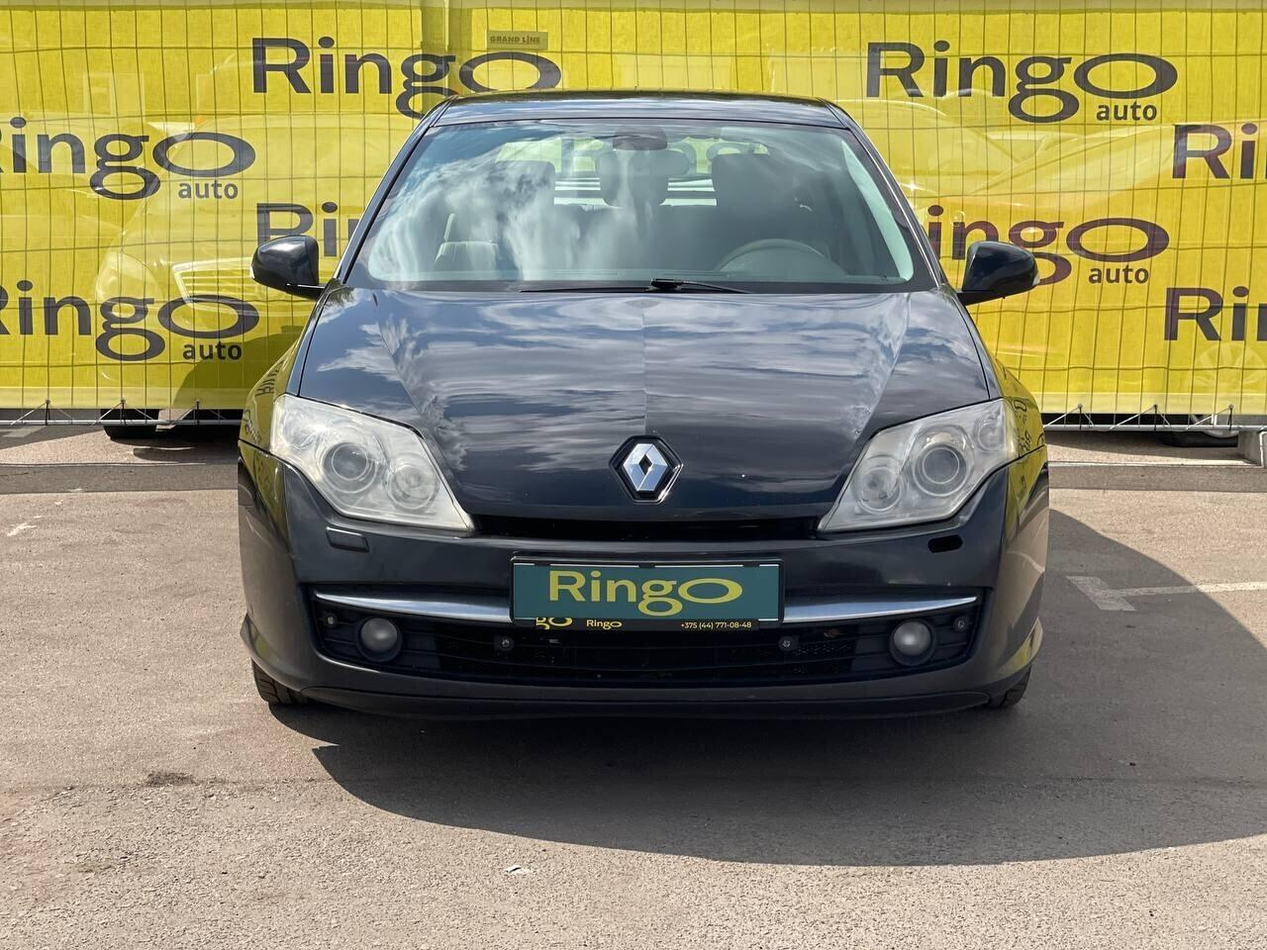Laguna_2007-2011: (239, 92, 1047, 714)
